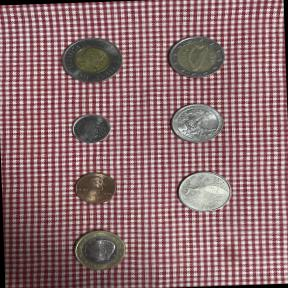coin: (49, 31, 134, 93), (158, 30, 233, 88), (160, 94, 234, 152), (168, 165, 237, 220), (66, 224, 133, 276), (66, 166, 122, 210), (66, 108, 120, 150)
